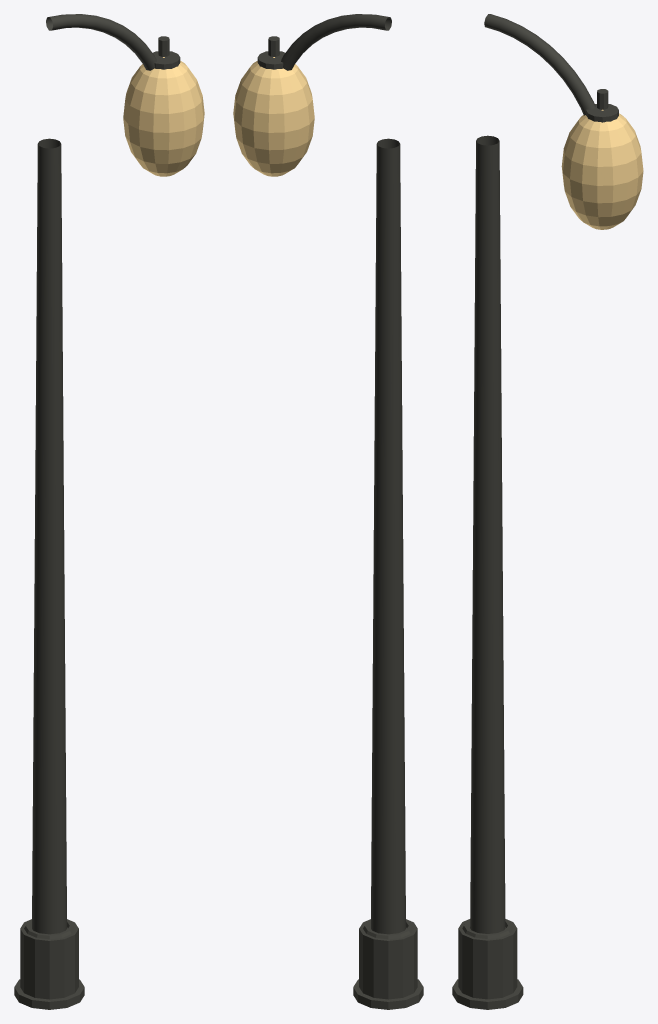
File: cp_lamppost.glb
3 views of the same model, side by side, from view 1: azimuth 30°, elevation 25°; view 2: azimuth 150°, elevation 25°; view 3: azimuth 330°, elevation 25° (orthographic).
Parts seen in each view (by area): view 1: CP_Lamppost; view 2: CP_Lamppost; view 3: CP_Lamppost.
Boxes of the visible parts, bbox=[...] form: CP_Lamppost: bbox=[14, 14, 204, 1009]; CP_Lamppost: bbox=[233, 14, 423, 1009]; CP_Lamppost: bbox=[452, 14, 643, 1009].
Size of the model in its own units: 0.71 by 3.67 by 0.28.
